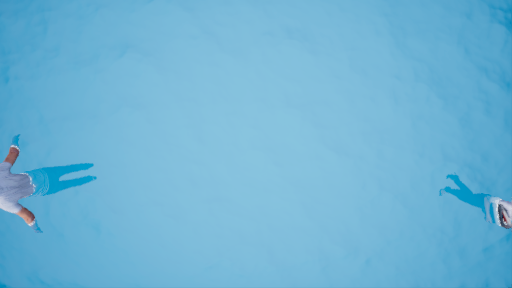person: (2, 136, 92, 228)
